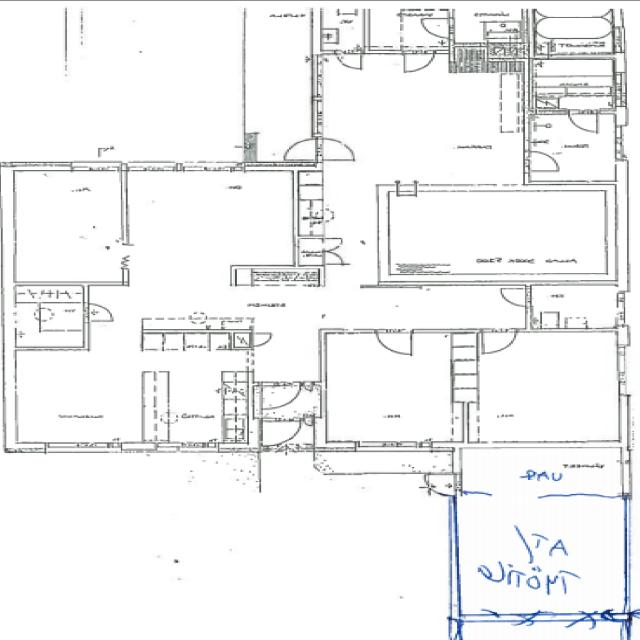door: (262, 382, 300, 411), (264, 417, 301, 446), (280, 138, 324, 160), (313, 138, 356, 160), (422, 474, 462, 496), (379, 330, 412, 356), (484, 329, 516, 355), (420, 18, 455, 38), (570, 109, 598, 133), (405, 51, 434, 74), (524, 152, 559, 171), (84, 304, 117, 322), (499, 289, 531, 306), (337, 51, 362, 71), (250, 333, 274, 347), (322, 239, 344, 252), (322, 252, 344, 264), (301, 417, 313, 429), (300, 382, 312, 394)
